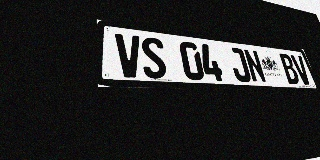0: (178, 41, 205, 80)
4: (198, 43, 224, 81)
B: (278, 53, 301, 84)
J: (227, 47, 252, 82)
N: (243, 49, 267, 83)
S: (140, 36, 168, 79)
V: (115, 33, 143, 78), (290, 55, 313, 85)
